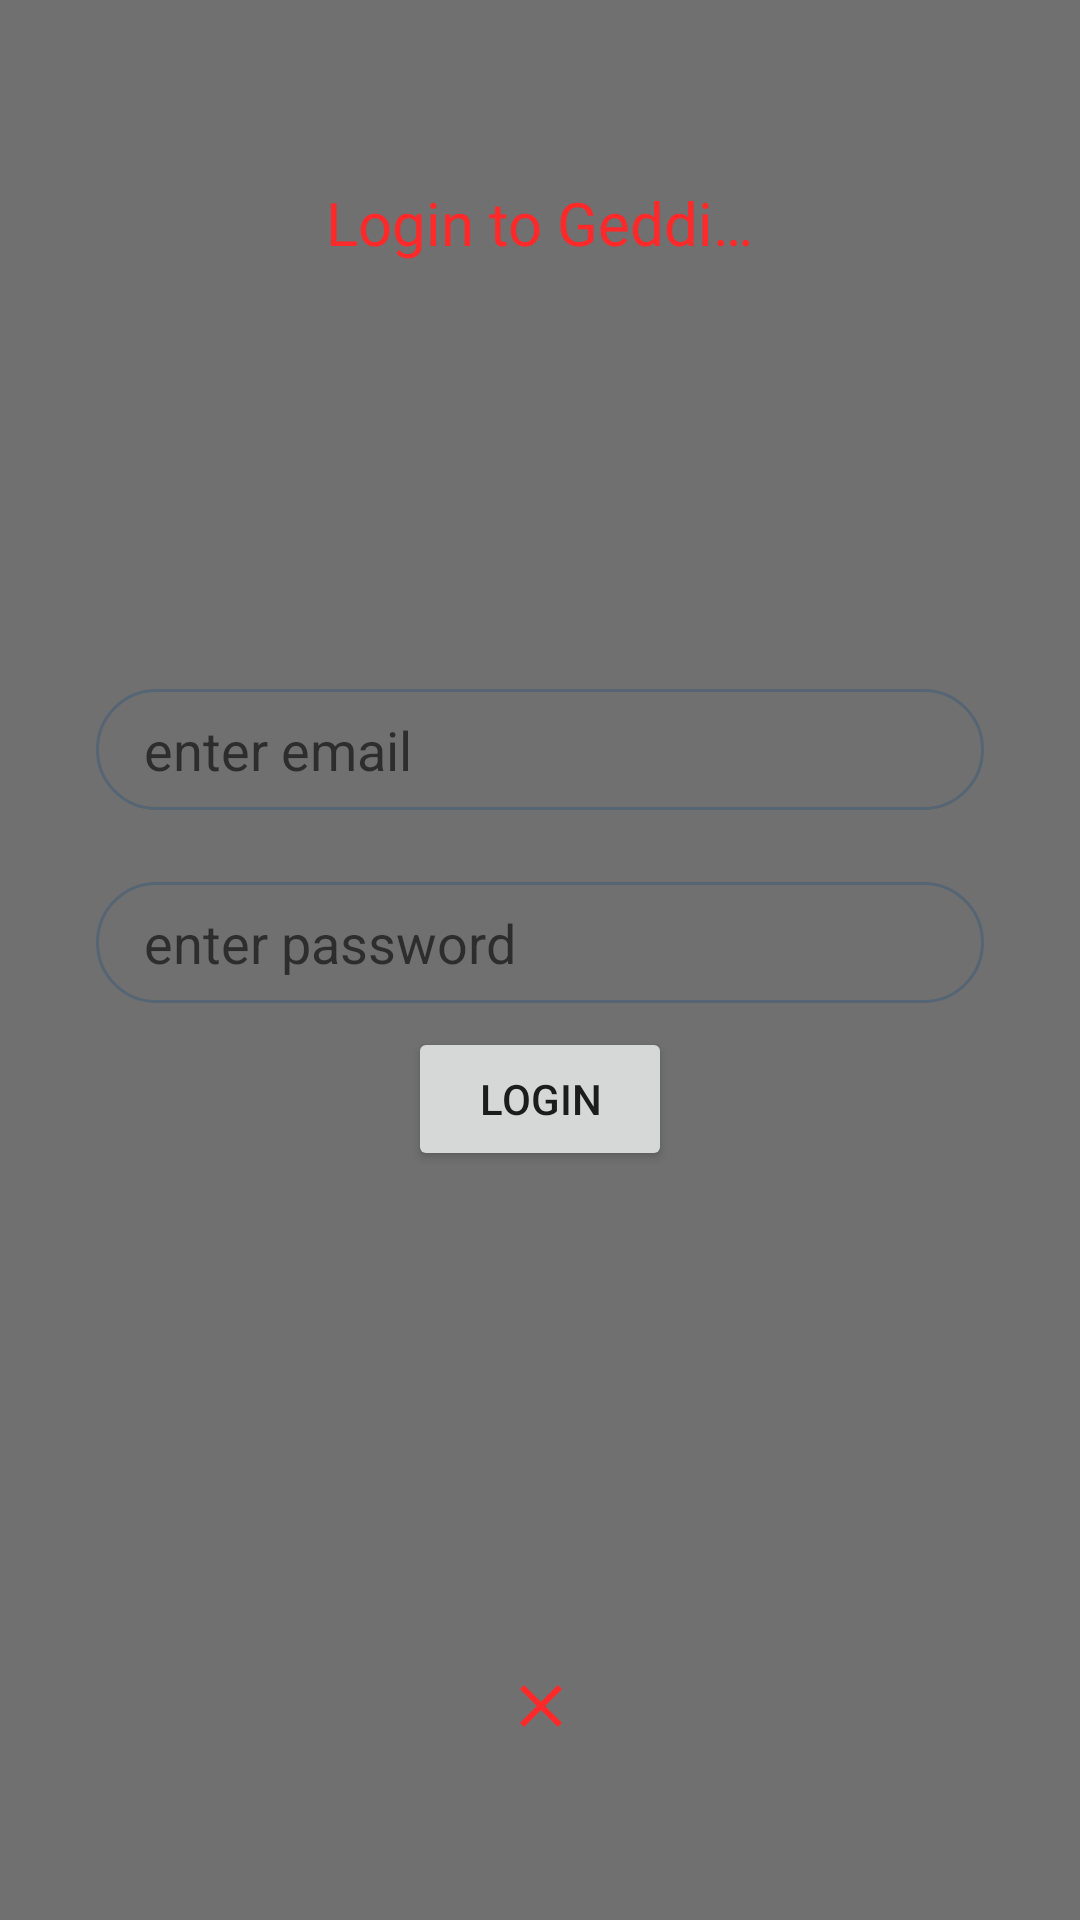

Icons on this 1080*1920 Android screen, each with the point to tap as (x=x, y=y):
close: (x=541, y=1706)
